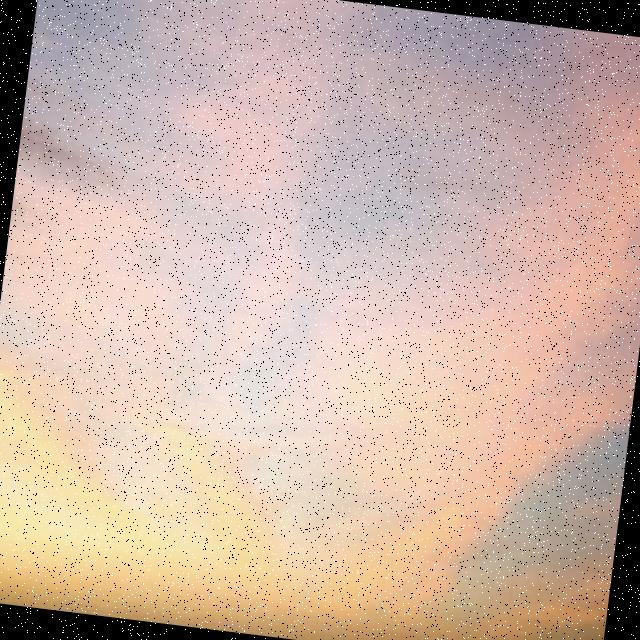Cs: (1, 33, 640, 602)
